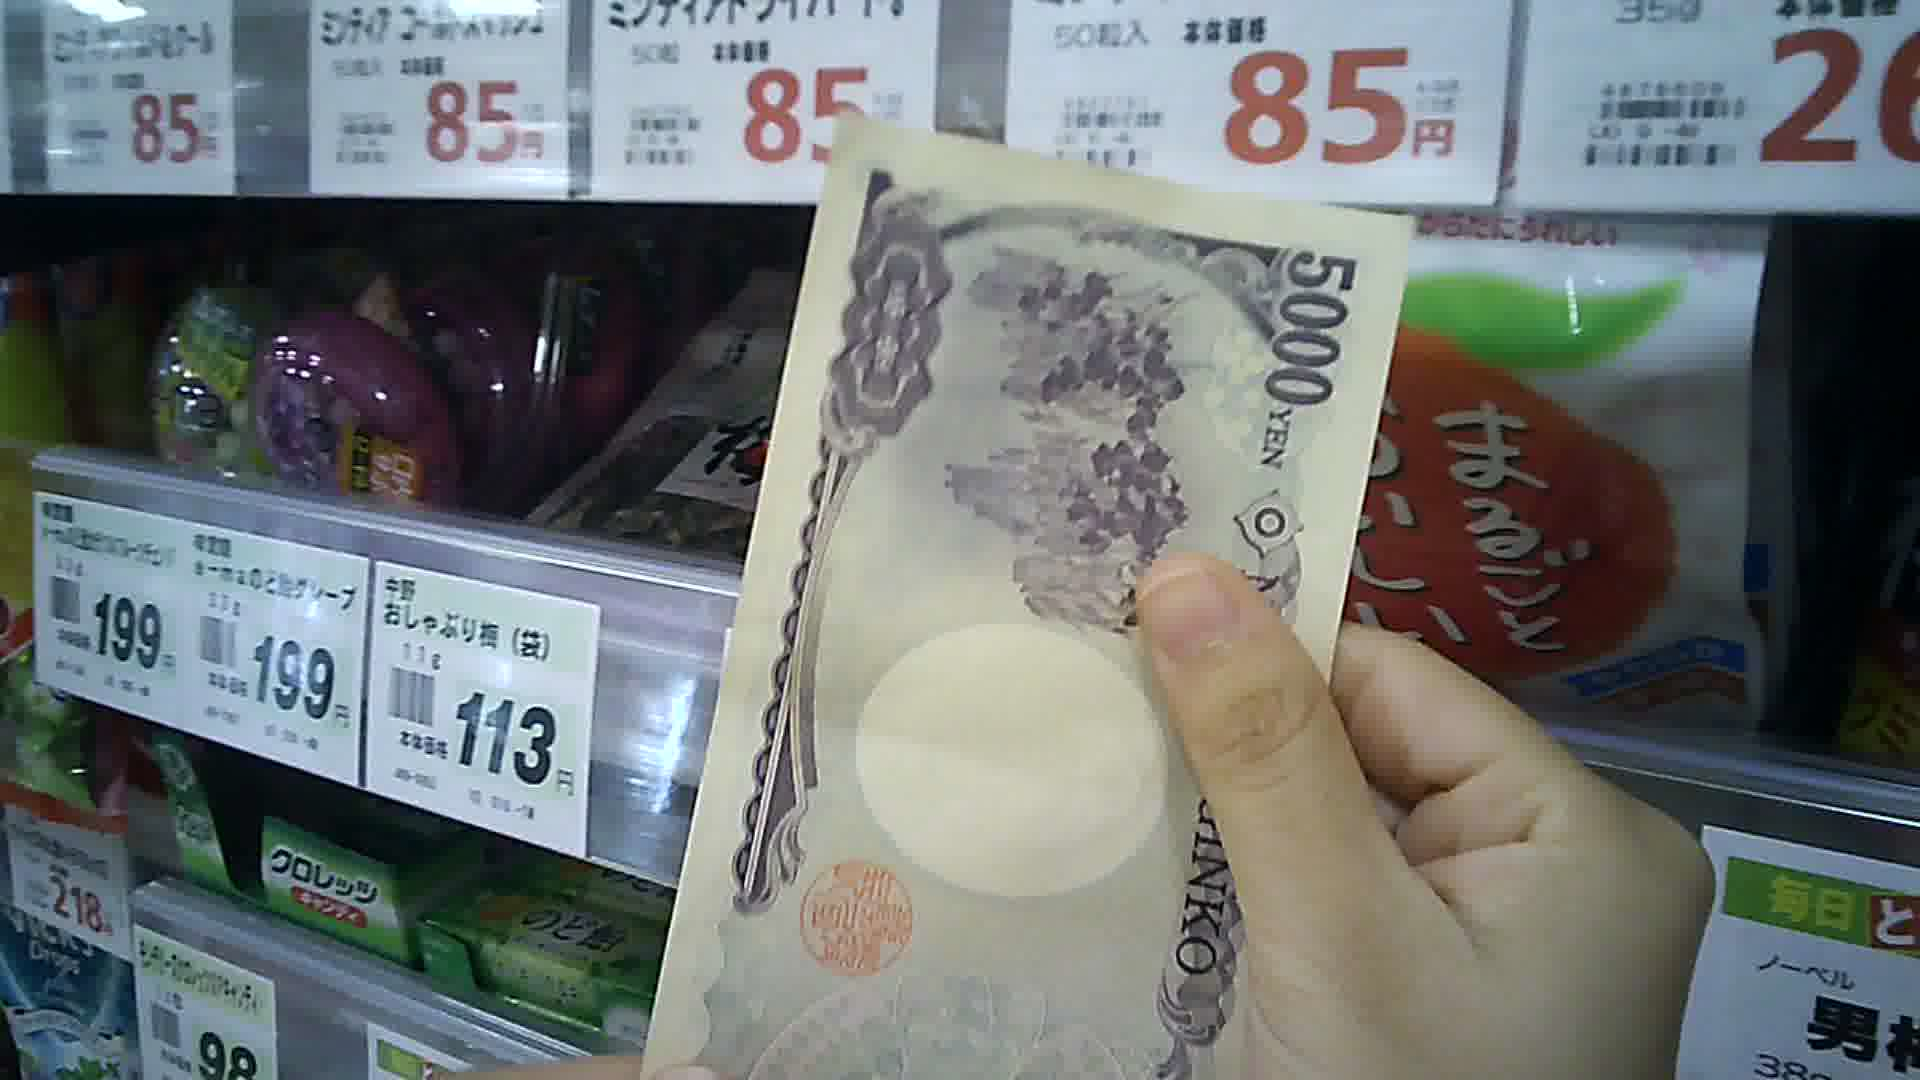5,000 Yen: (662, 100, 1427, 1079)
